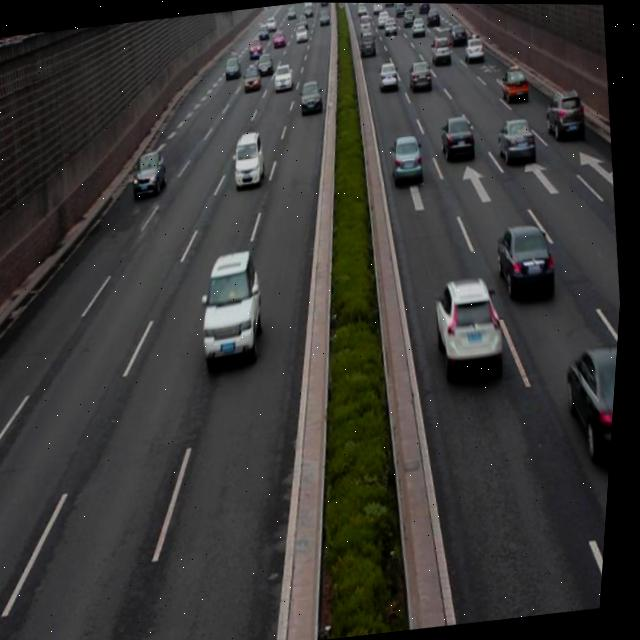car: (196, 247, 273, 367), (431, 271, 511, 374), (563, 338, 622, 467), (492, 216, 563, 303), (541, 83, 588, 139), (230, 129, 270, 192), (387, 131, 428, 188), (131, 146, 172, 200), (438, 111, 480, 163), (496, 114, 538, 165), (499, 63, 531, 103), (297, 78, 325, 117), (406, 57, 434, 92), (375, 58, 401, 92)
